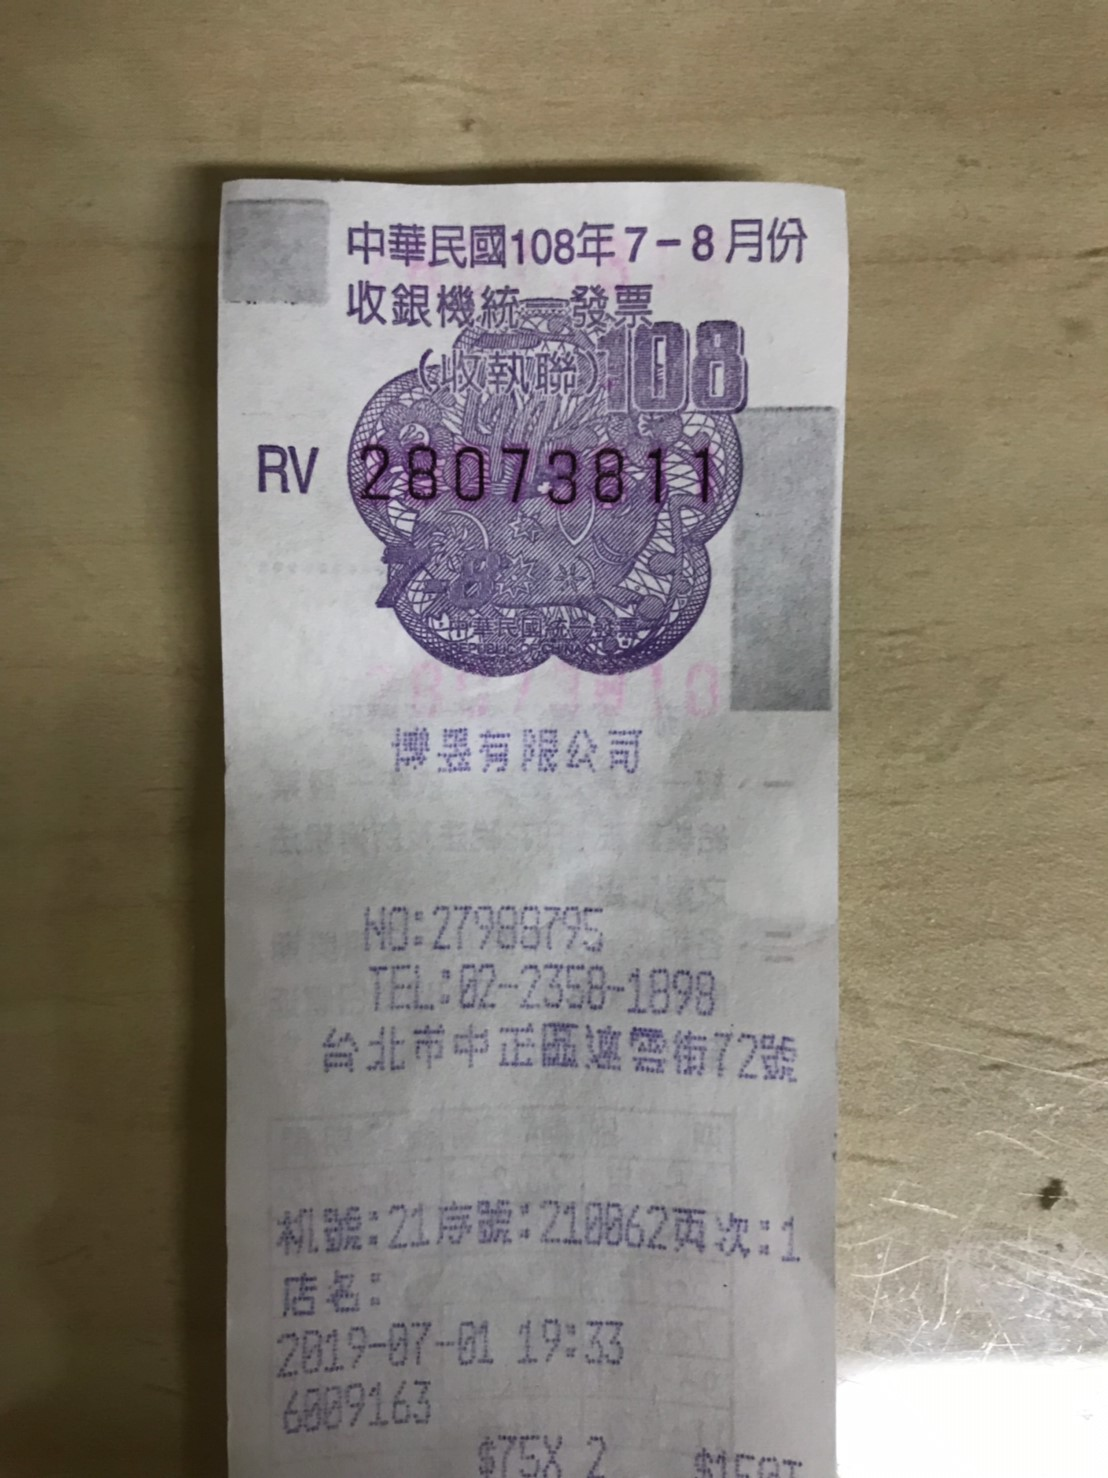Date_Old: (510, 213, 811, 271)
Number_Old: (347, 434, 718, 509)
